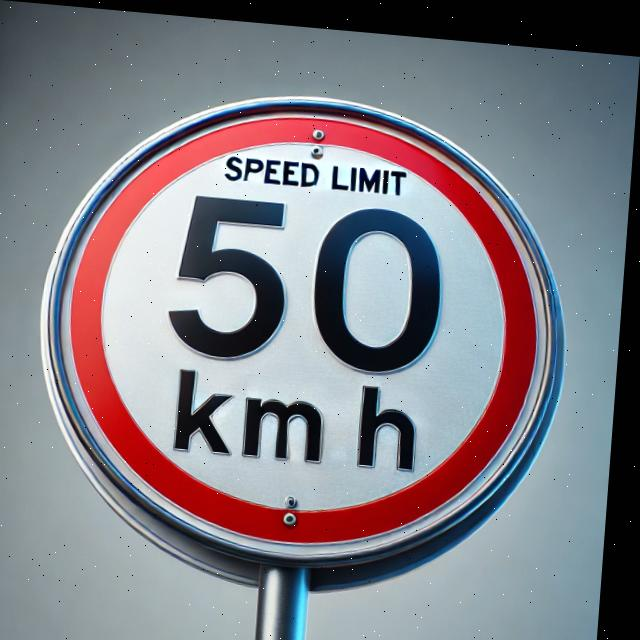Speed limit 50: (31, 72, 586, 595)
